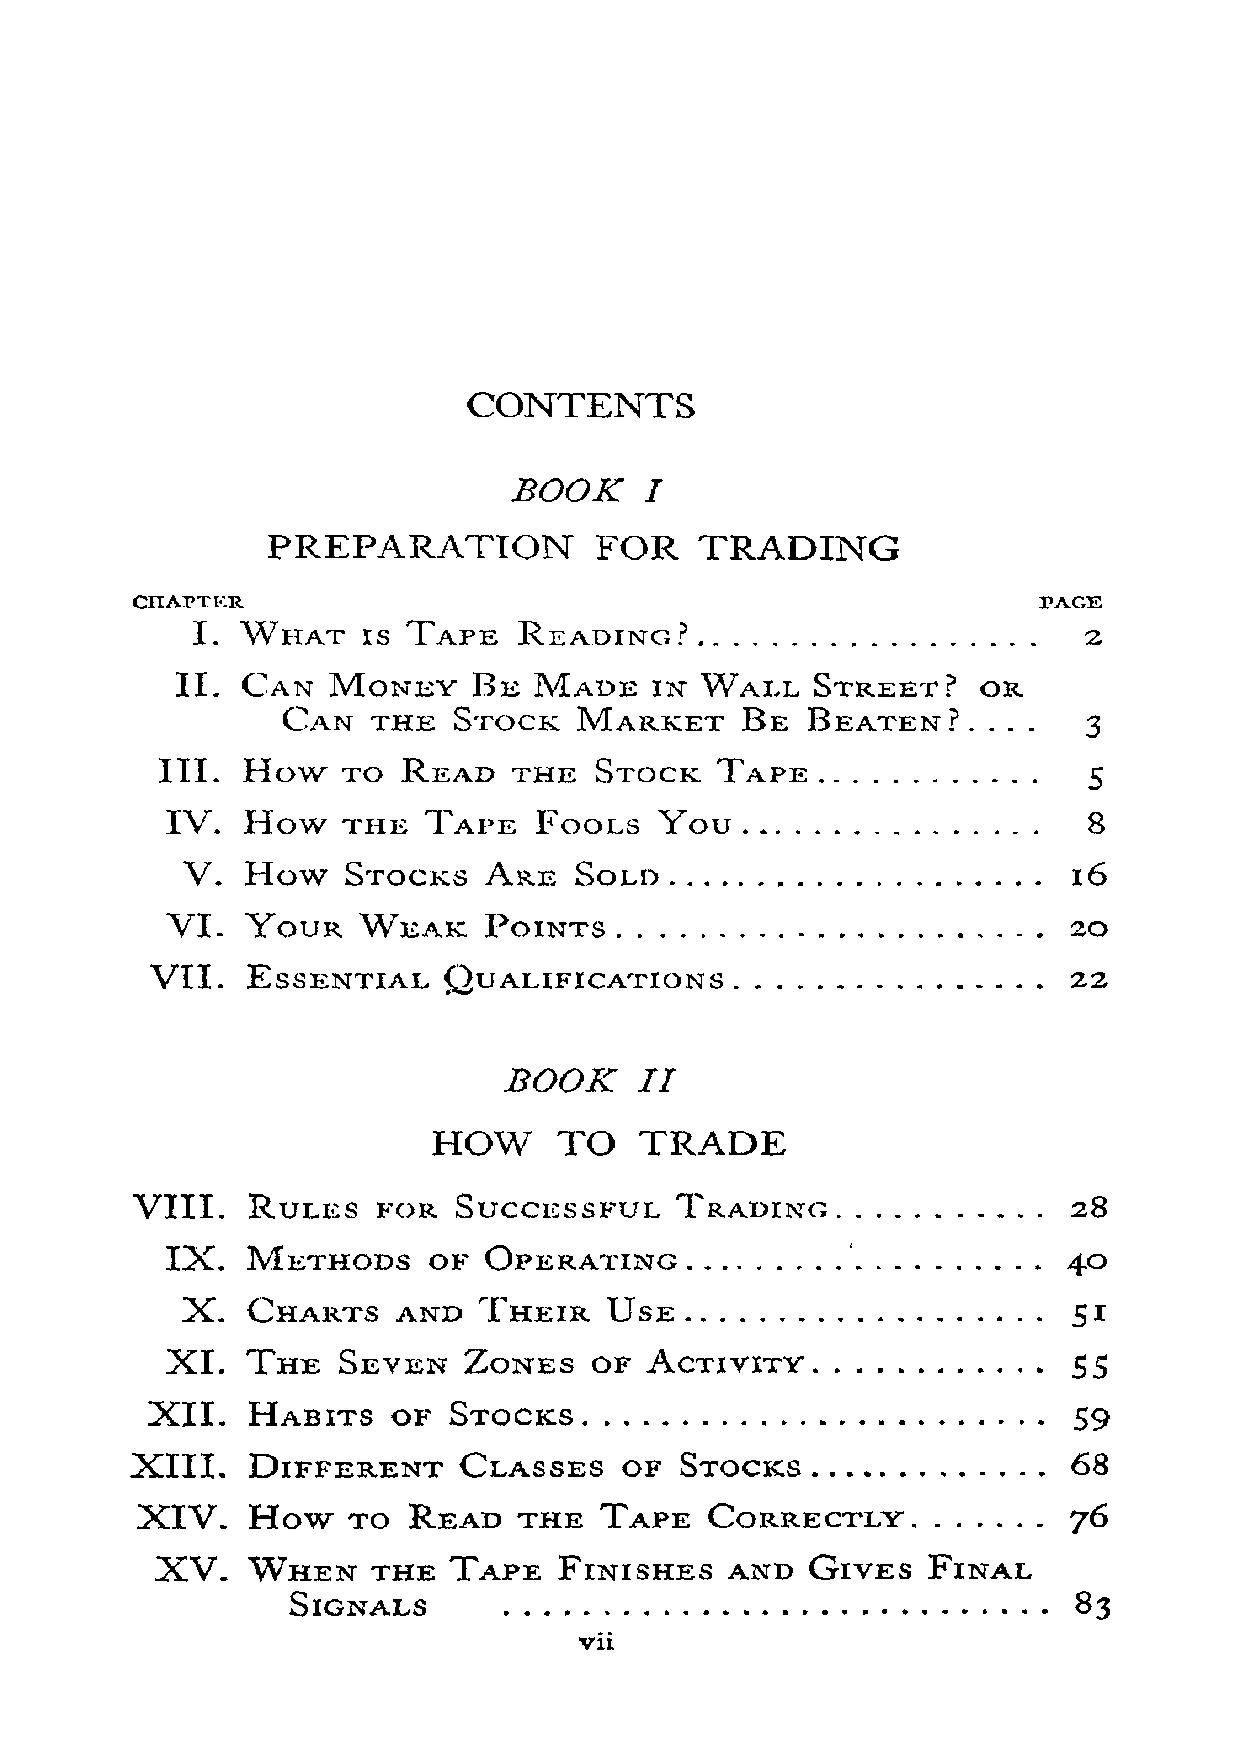TOC_chapter: (258, 474, 919, 568), (166, 663, 1019, 735), (156, 1549, 1035, 1618), (419, 1060, 798, 1162), (132, 1496, 905, 1535), (127, 1185, 835, 1223), (172, 851, 678, 900), (156, 749, 807, 786), (141, 956, 729, 994), (126, 1448, 804, 1482), (153, 803, 734, 841), (161, 1343, 804, 1378), (176, 1286, 683, 1325), (161, 1241, 679, 1276), (187, 619, 694, 650), (158, 906, 604, 939), (144, 1398, 573, 1432)
TOC_pagenumber: (1070, 1498, 1107, 1535), (1074, 1589, 1115, 1622), (1068, 1347, 1108, 1381), (1064, 1249, 1111, 1278), (1071, 964, 1115, 993), (1067, 1449, 1118, 1474), (1068, 863, 1111, 887), (1070, 1192, 1107, 1219), (1074, 1298, 1107, 1326), (1082, 764, 1108, 797), (1074, 1402, 1104, 1431), (1066, 917, 1106, 937), (1086, 808, 1106, 837), (1083, 711, 1104, 735), (1079, 625, 1099, 647)
chapter: (458, 378, 692, 425)
content_pagenumber: (574, 1631, 621, 1649)
